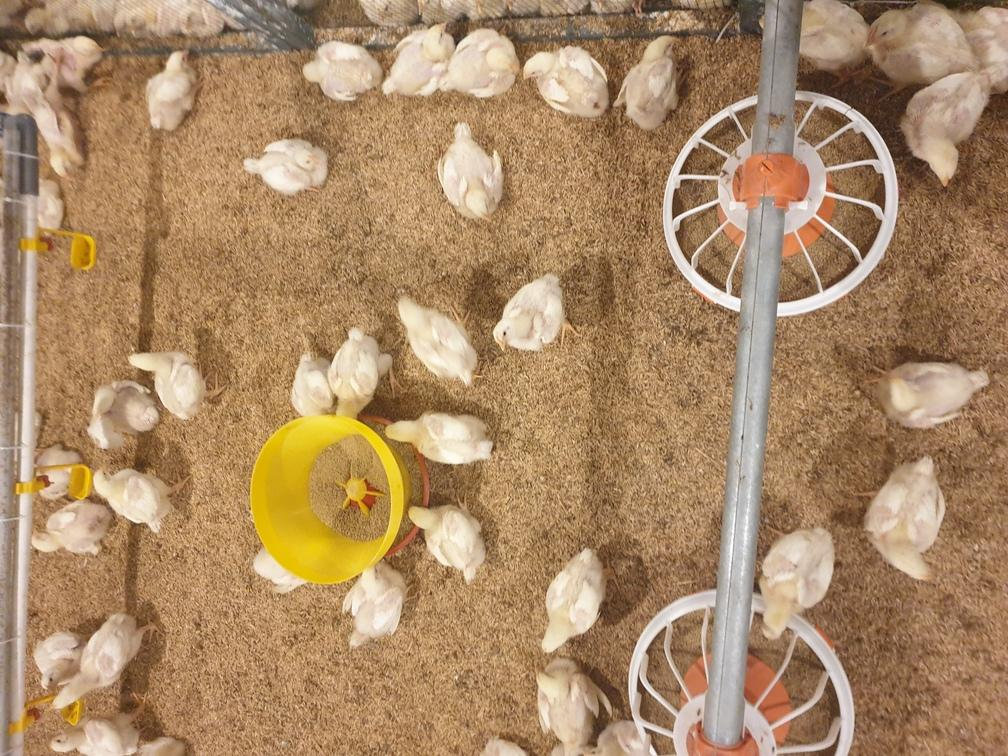Pollos: (900, 69, 994, 187), (866, 452, 947, 582), (50, 605, 139, 714), (862, 2, 975, 82), (759, 523, 838, 634), (395, 287, 480, 387), (864, 361, 998, 420), (126, 342, 229, 414), (541, 545, 607, 653), (621, 35, 689, 133), (442, 119, 504, 225), (522, 44, 609, 119), (541, 656, 616, 742), (406, 504, 488, 576), (390, 411, 501, 464), (331, 322, 390, 418), (497, 267, 559, 353), (96, 461, 182, 520), (386, 20, 454, 94), (450, 25, 522, 94), (243, 137, 331, 193), (30, 502, 119, 556), (349, 569, 405, 651), (302, 44, 380, 98), (85, 379, 149, 442), (285, 340, 333, 416), (152, 51, 196, 128)
